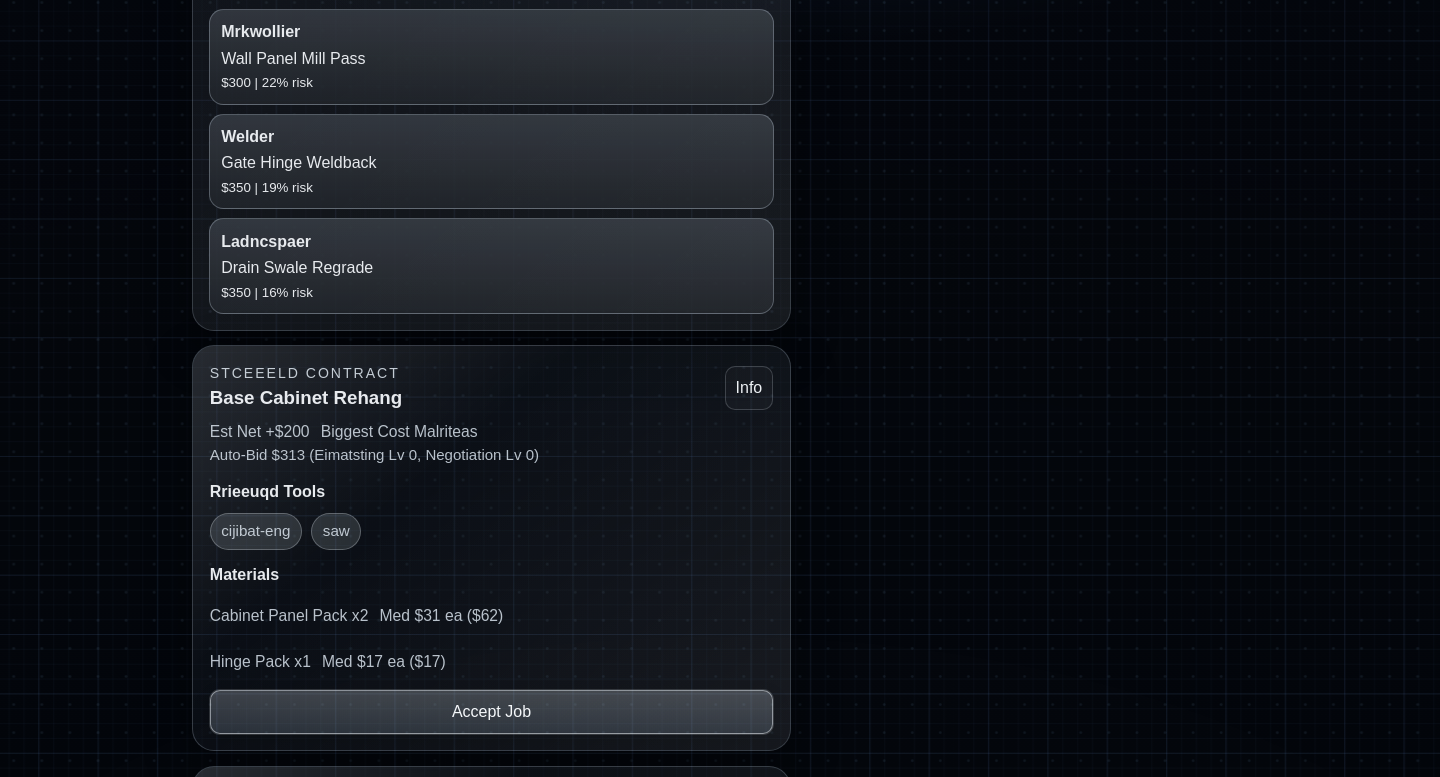
Test: compact shell ui › EH-TW-078: contract details show a compact outcome snapshot with risk band
(page scrolled)
Expected: the text "Outcome Snapshot" is not shown
Click the button "Info": (749, 388) 725,366 -> 773,410
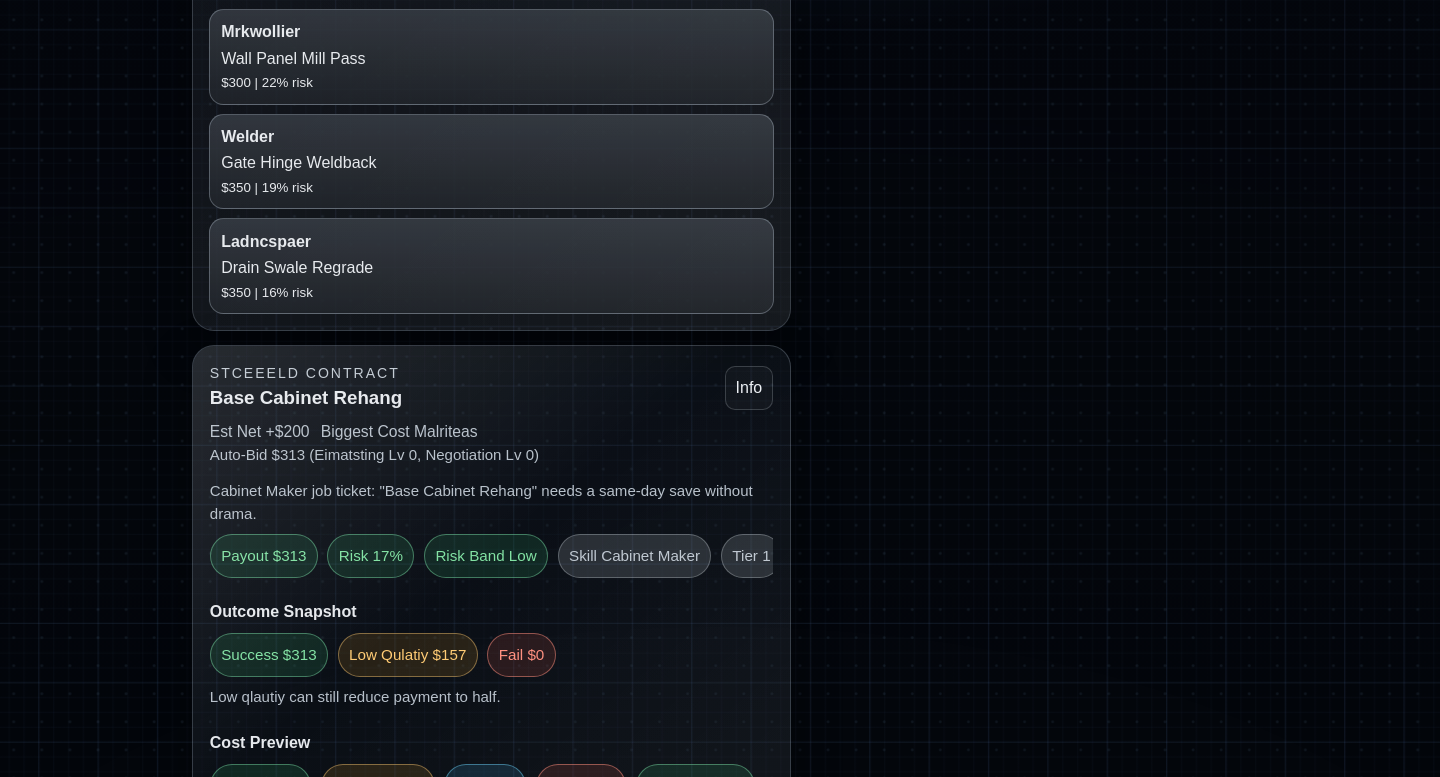
Expected: the text "Outcome Snapshot" is shown, 210,603 -> 356,620
Expected: the text "Success $313" is shown, 210,633 -> 328,677
Expected: the text "Fail $0" is shown, 487,633 -> 556,677
